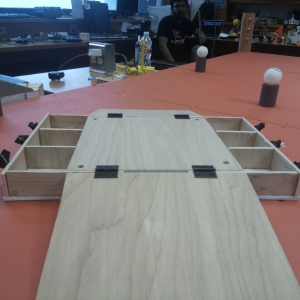obstacle: (260, 66, 282, 111), (197, 45, 208, 74)
side: (6, 110, 64, 197), (219, 112, 300, 158)
slope: (66, 163, 250, 300)
